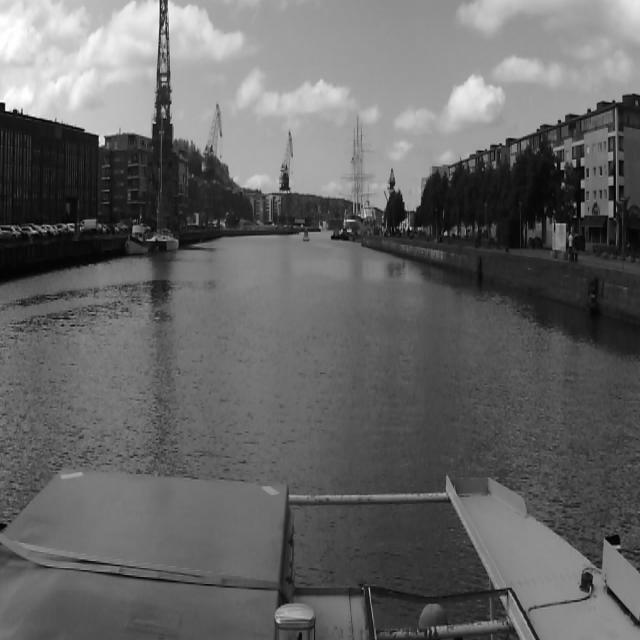ship: (333, 113, 385, 226), (148, 119, 179, 252), (125, 219, 148, 256), (302, 228, 311, 242)
